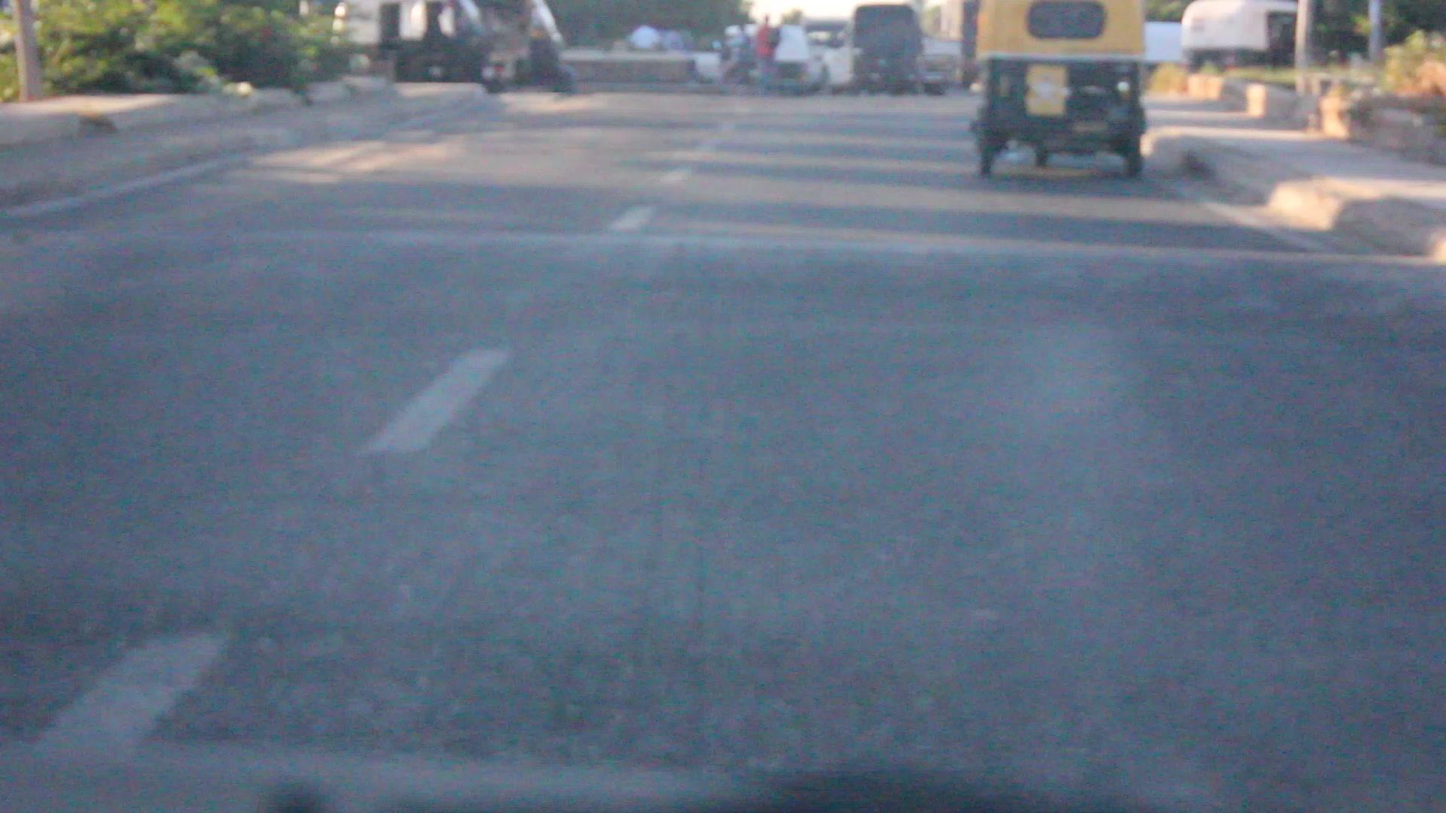Bump: (90, 233, 1420, 352)
